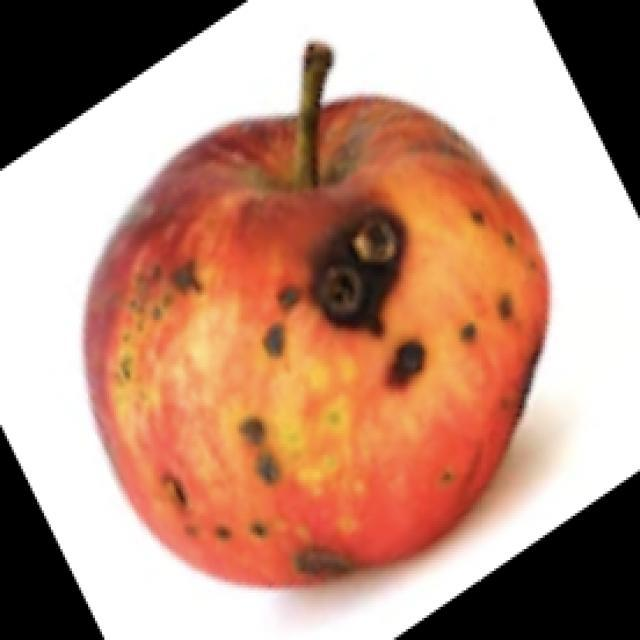Rotten: (59, 93, 558, 590)
